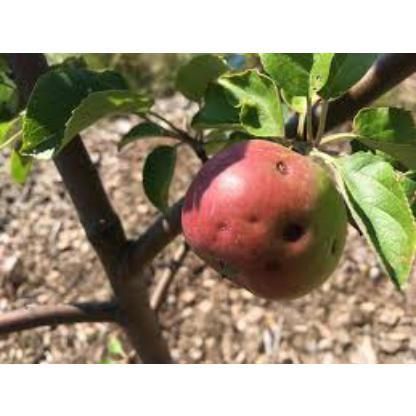damaged_apple: (180, 129, 352, 305)
